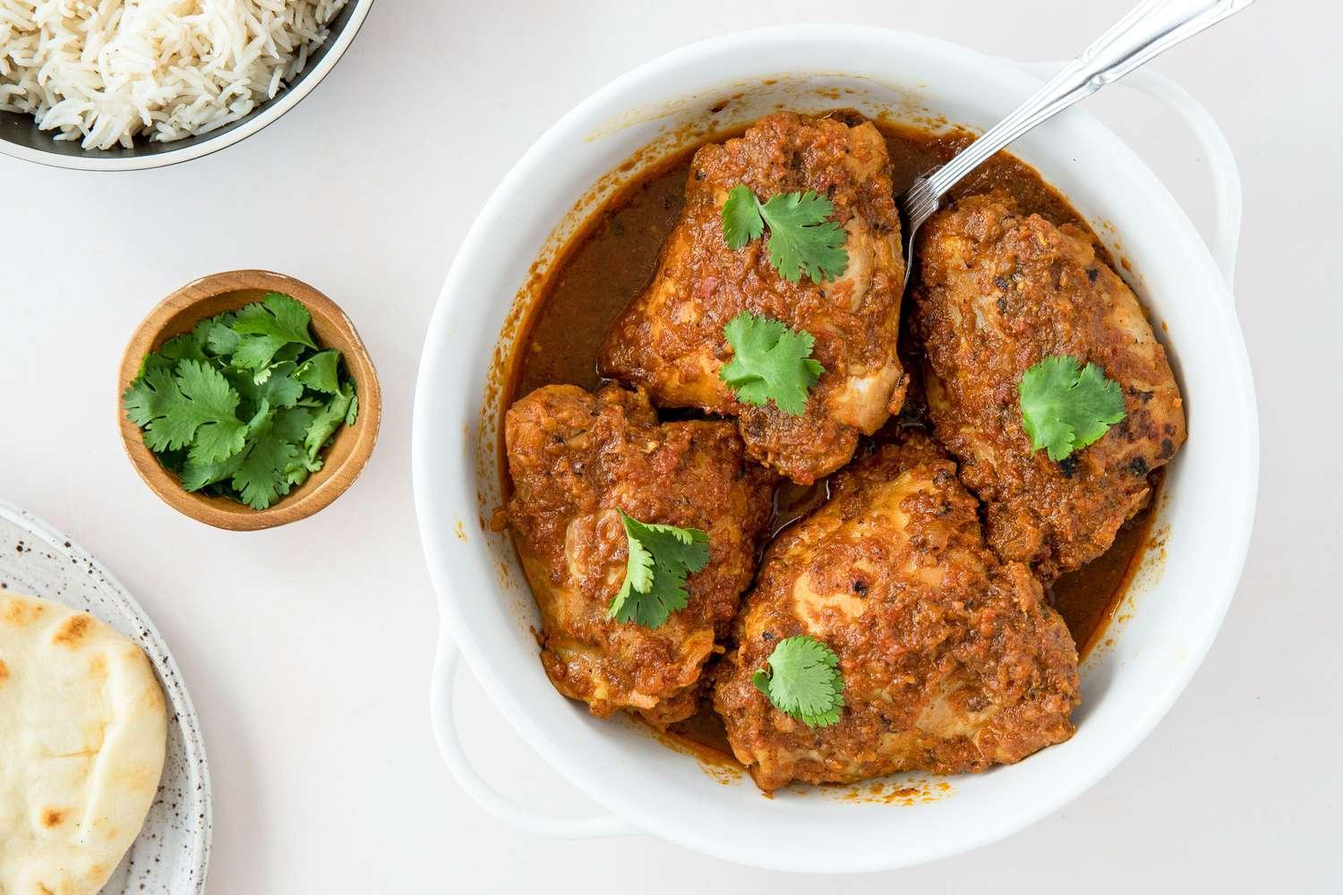chicken: (508, 115, 1148, 794)
rice: (4, 17, 304, 145)
roti: (29, 599, 186, 895)
